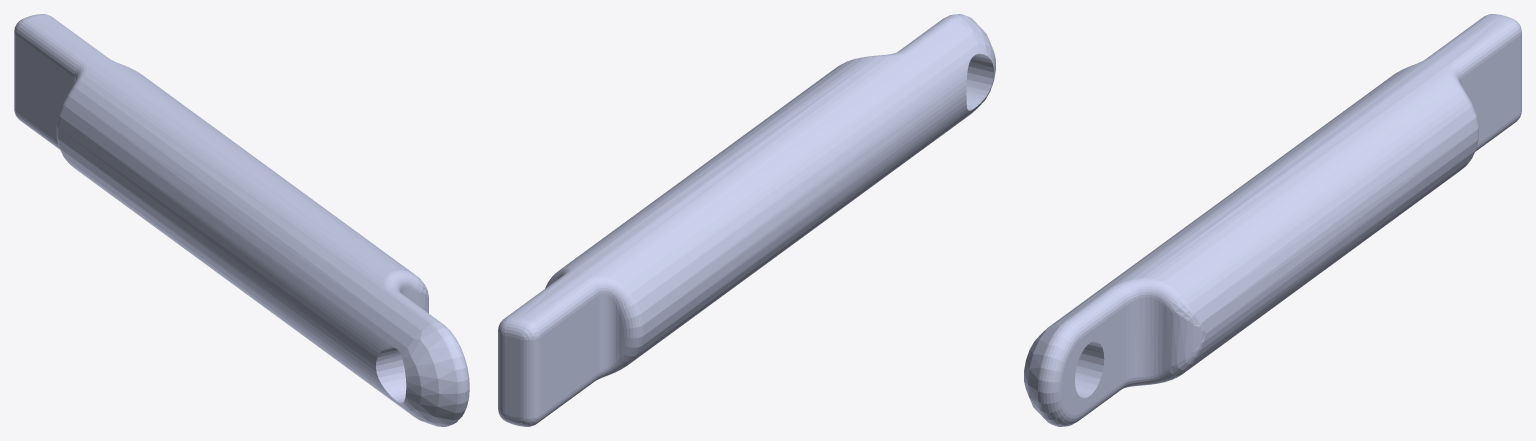
3 views of the same model, side by side, from view 1: azimuth 30°, elevation 25°; view 2: azimuth 150°, elevation 25°; view 3: azimuth 330°, elevation 25° (orthographic).
Visible parts, largest first — view 1: node0; view 2: node0; view 3: node0.
Part boxes in pixels (x1=…): node0: x1=14, y1=14, x2=469, y2=426; node0: x1=498, y1=14, x2=995, y2=426; node0: x1=1024, y1=14, x2=1521, y2=426.
Bounding box in the file's own units: 0.04 × 0.3091 × 0.04.
